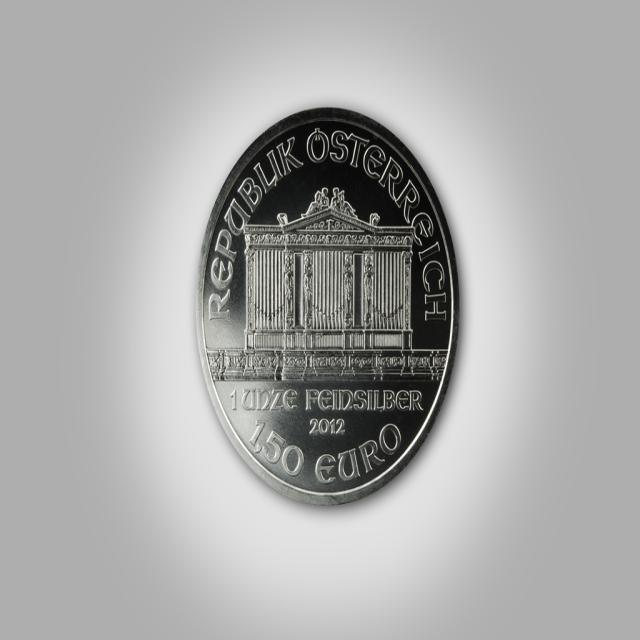Coin: (192, 97, 460, 510)
